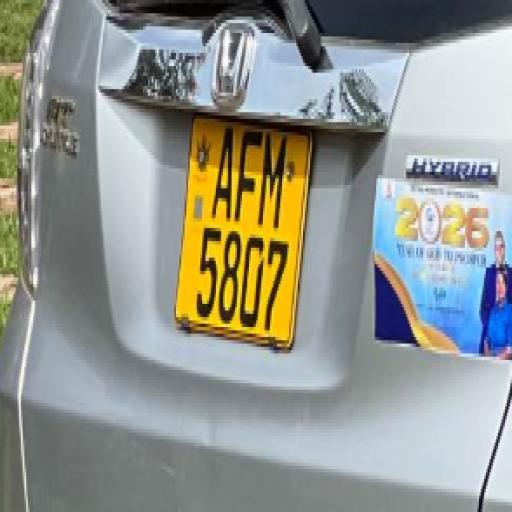number-plates: (191, 113, 291, 337)
